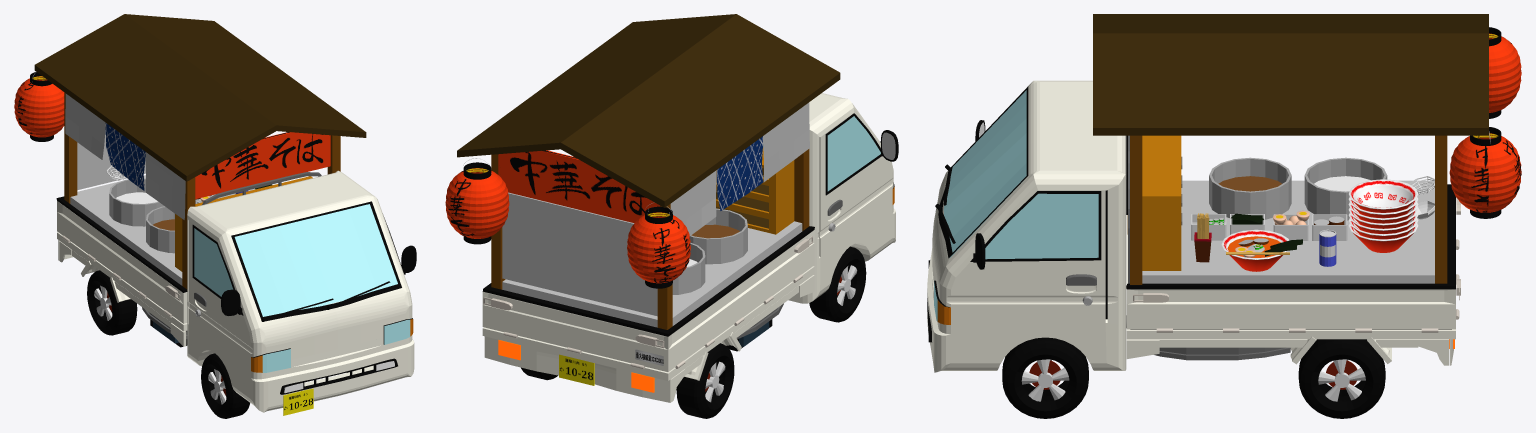
Rendered from keitora_ramen.fbx.
3 views of the same model, side by side, from view 1: azimuth 30°, elevation 25°; view 2: azimuth 150°, elevation 25°; view 3: azimuth 270°, elevation 25° (orthographic). The views are drawn at different scales.
Visible parts, largest first — view 1: cube; view 2: cube; view 3: cube.
Boxes of the visible parts, <box> form: cube: <box>14,14,416,418</box>; cube: <box>445,14,898,418</box>; cube: <box>927,14,1521,418</box>.
Size of the model in its own units: 746 by 902 by 1440.
